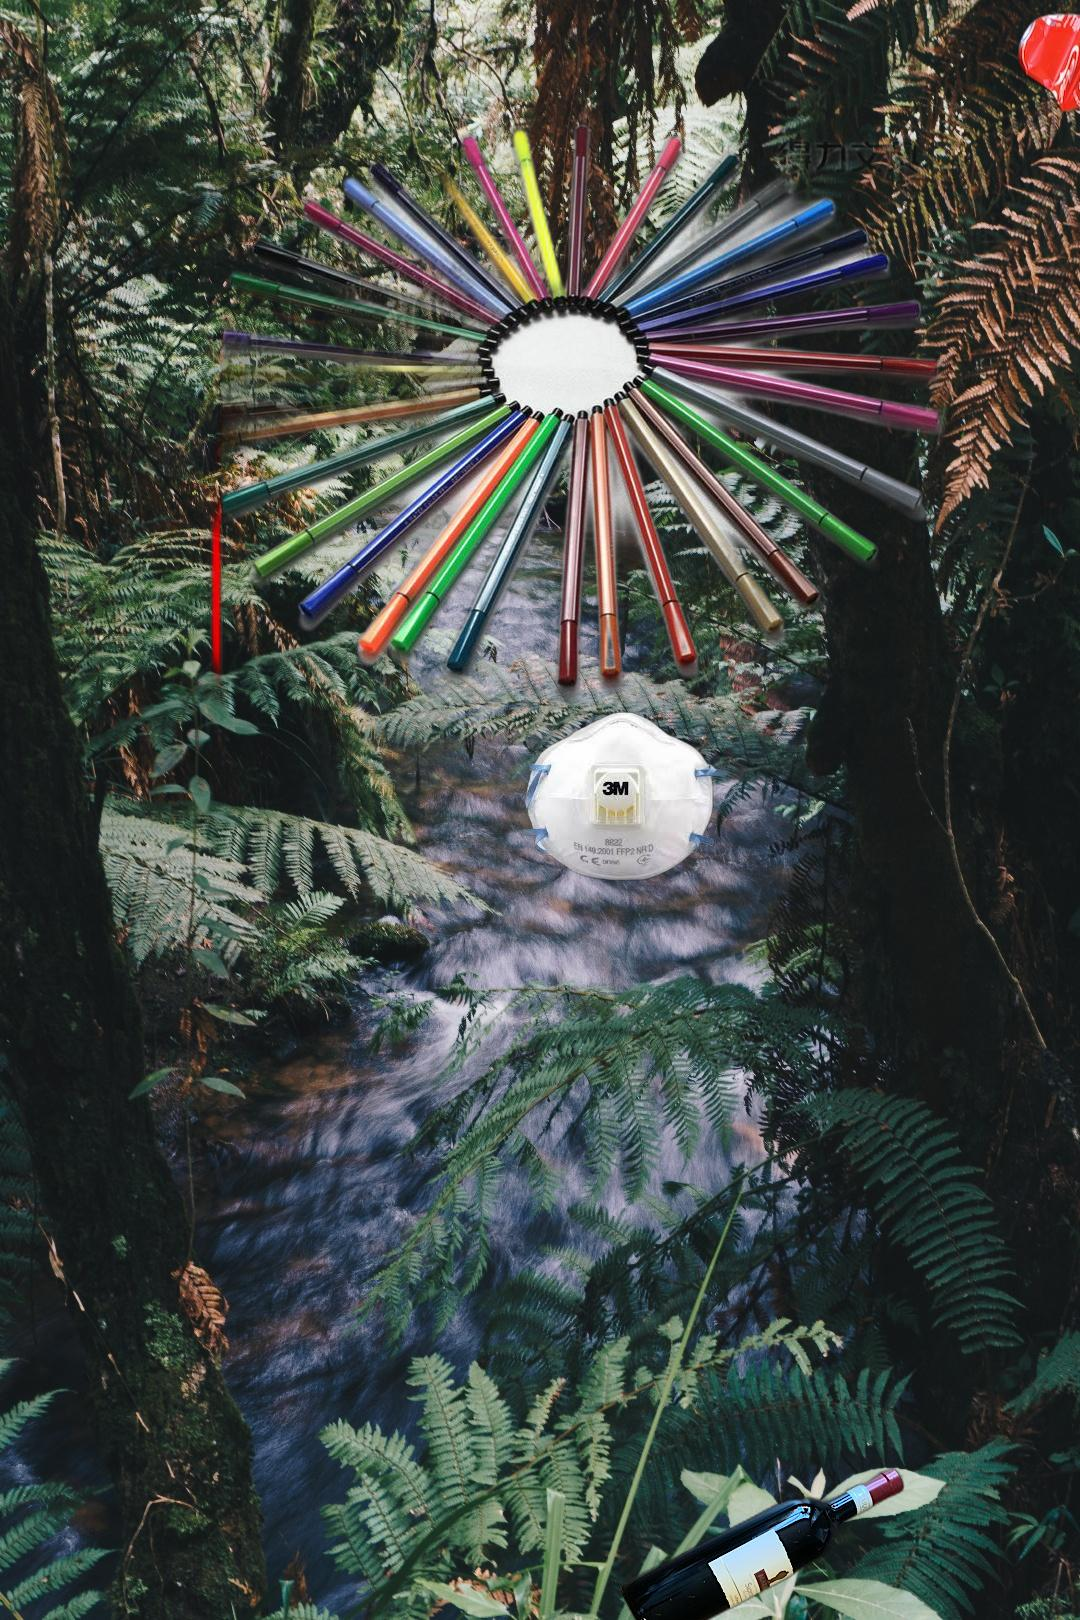glass: (617, 1463, 909, 1620)
metal-cans: (1009, 6, 1080, 333)
penholder: (186, 23, 986, 823)
trash: (518, 709, 733, 884)
